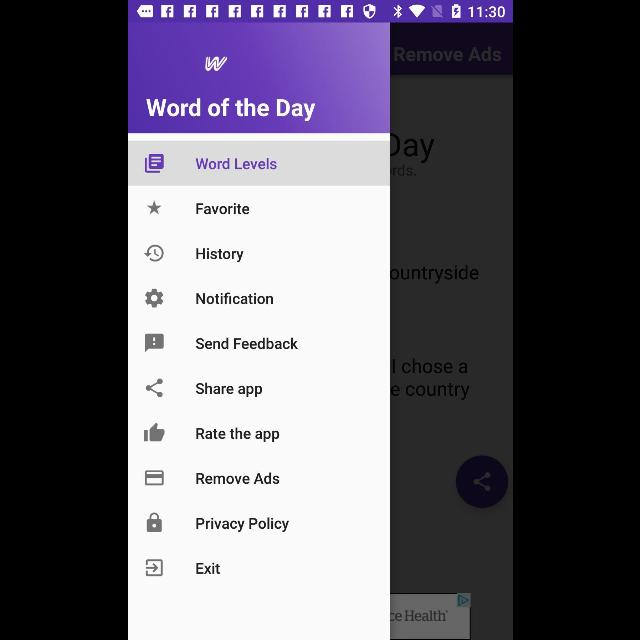icon: (144, 422, 164, 442), (144, 333, 164, 352), (145, 288, 163, 308), (143, 244, 163, 262), (144, 154, 164, 172), (146, 512, 162, 532), (144, 470, 164, 486), (146, 378, 162, 398), (146, 560, 162, 576), (146, 201, 160, 215)
image: (204, 56, 226, 72)
panel: (128, 22, 388, 640)
text: (146, 98, 314, 122), (195, 518, 288, 532), (195, 338, 298, 350), (195, 428, 278, 442), (194, 382, 262, 398), (195, 157, 277, 170), (195, 472, 278, 484), (195, 292, 272, 304), (195, 248, 243, 262), (195, 203, 249, 215), (196, 562, 220, 574)
uppertaskbar: (128, 1, 512, 23)
